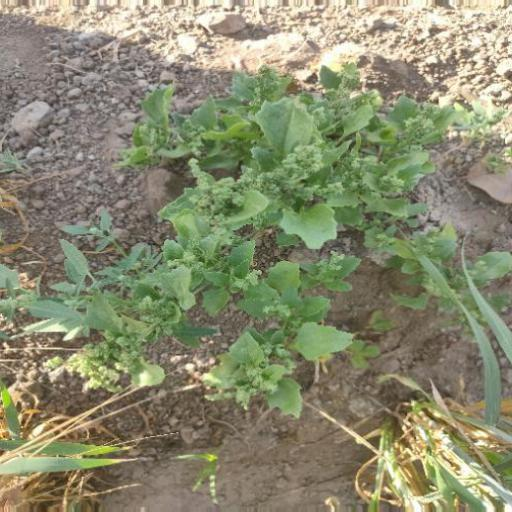weed: (67, 80, 470, 432)
